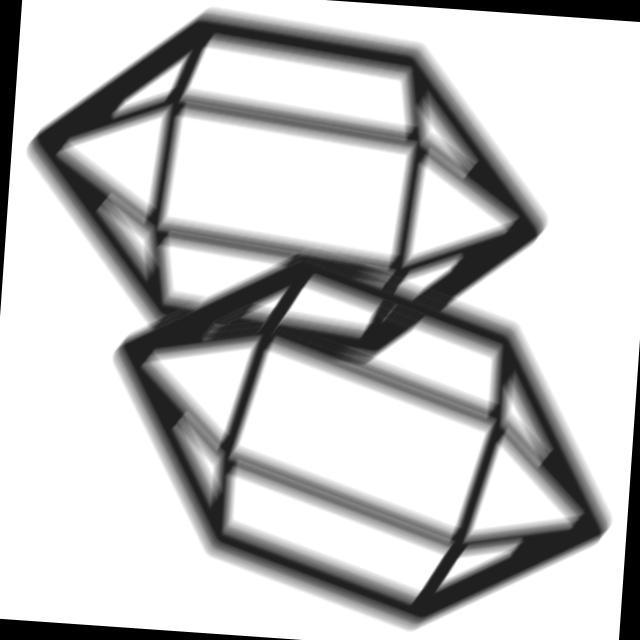crystal: (5, 1, 571, 417), (86, 236, 639, 640)
